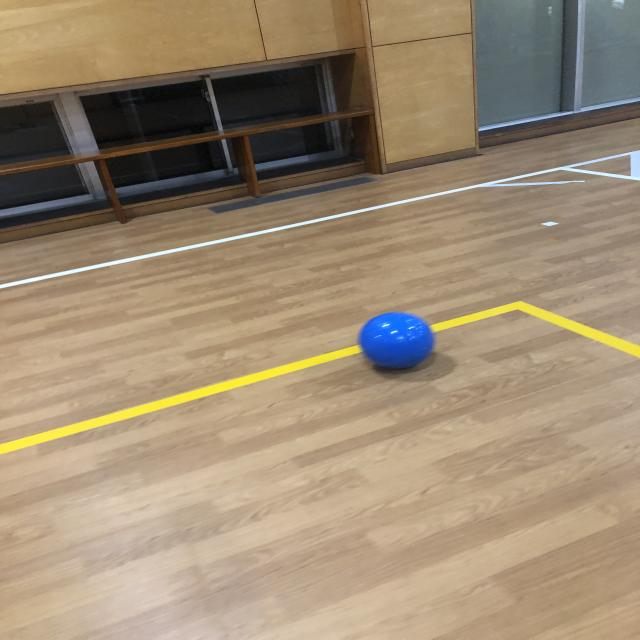blue_ball: (361, 312, 434, 369)
